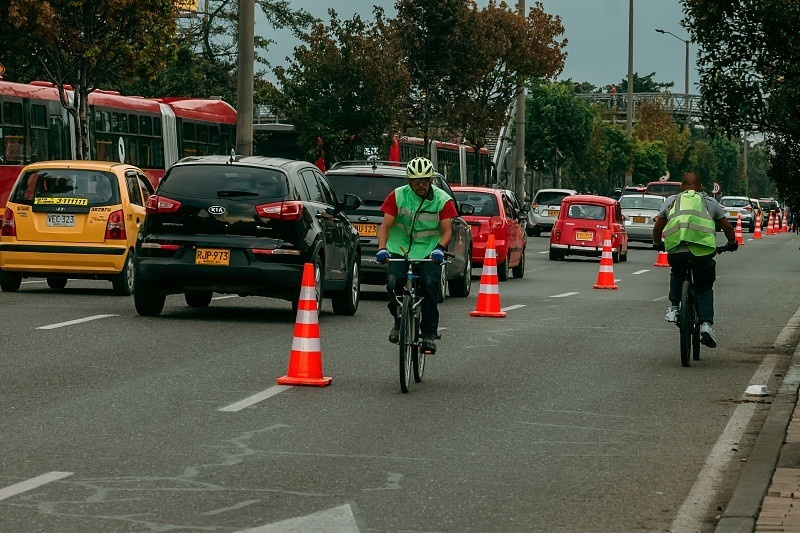non-vehicle: (377, 250, 445, 383), (657, 244, 726, 359)
